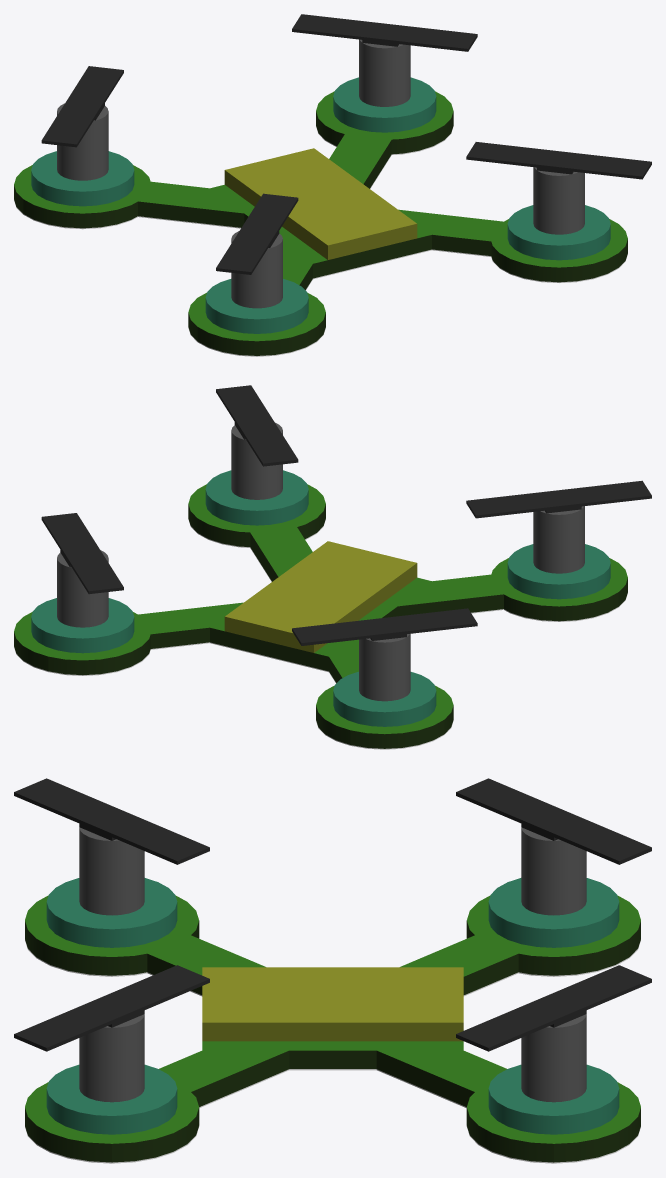
Rendered from my_crazyflie4.dae.
3 renders of one model, top to bottom at view 1: azimuth 30°, elevation 25°; view 2: azimuth 150°, elevation 25°; view 3: azimuth 270°, elevation 25°, orthographic. The views are drawn at different scales.
Visible parts, largest first — view 1: SketchUp (×18); view 2: SketchUp (×18); view 3: SketchUp (×18).
Boxes of the visible parts, x1,y1,x2,y2 form: SketchUp (×18): (14, 14, 651, 356); SketchUp (×18): (14, 385, 651, 749); SketchUp (×18): (14, 778, 651, 1163).
Bounding box in the file's own units: 2.45 × 2.45 × 0.5087.
